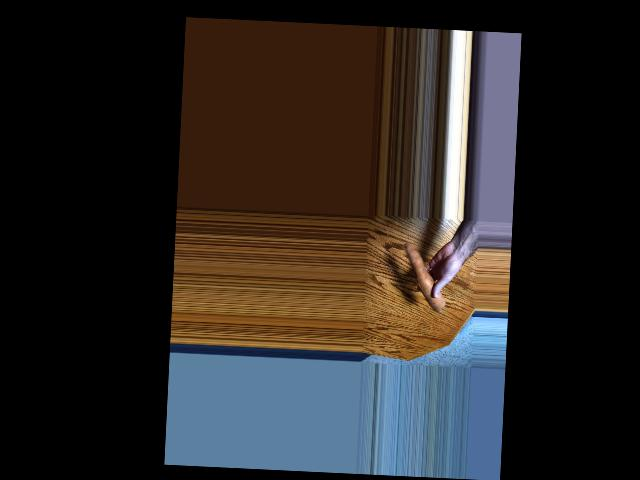sweet_potato: (406, 243, 445, 320)
